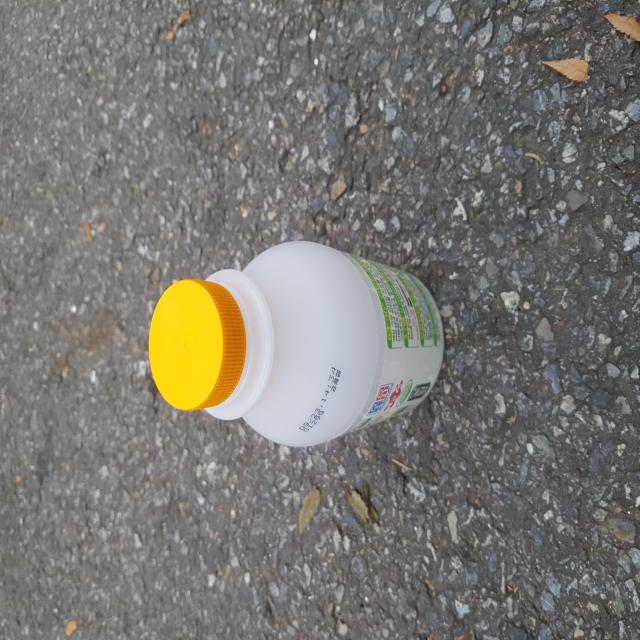bottle: (145, 236, 449, 445)
